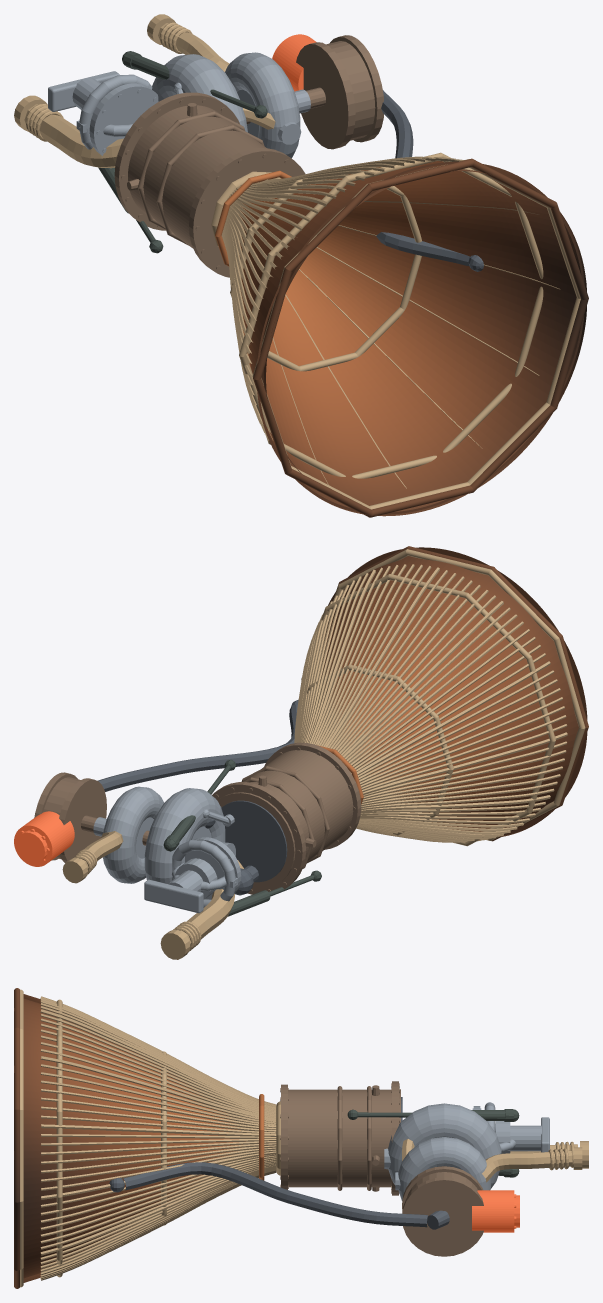
Rendered from rocket_engine.glb.
The picture shows the model from 3 angles, top to bottom: view 1: azimuth 30°, elevation 25°; view 2: azimuth 150°, elevation 25°; view 3: azimuth 270°, elevation 25°; orthographic projection. The views are drawn at different scales.
Visible parts, largest first — view 1: nozzle, cooling_tubes, combustion_chamber, turbine, gimbal, fuel_pump, ox_feed, ox_pump, turbine_exhaust, fuel_feed, actuators, gas_generator; view 2: cooling_tubes, nozzle, combustion_chamber, gimbal, ox_pump, fuel_pump, turbine, injector, turbine_exhaust, gas_generator, ox_feed, actuators (+1 smaller); view 3: cooling_tubes, nozzle, combustion_chamber, turbine, turbine_exhaust, ox_pump, fuel_pump, fuel_feed, gas_generator, gimbal, actuators, ox_feed.
Boxes of the visible parts, x1,y1,x2,y2 form: nozzle: (215, 158, 588, 517); cooling_tubes: (211, 152, 580, 509); combustion_chamber: (114, 92, 305, 277); turbine: (246, 35, 383, 149); gimbal: (48, 71, 158, 155); fuel_pump: (225, 52, 310, 158); ox_feed: (14, 95, 123, 168); ox_pump: (152, 54, 247, 132); turbine_exhaust: (376, 90, 483, 271); fuel_feed: (147, 14, 275, 129); actuators: (98, 51, 267, 253); gas_generator: (272, 34, 316, 91); cooling_tubes: (294, 549, 585, 846); nozzle: (317, 546, 588, 841); combustion_chamber: (212, 742, 361, 894); gimbal: (144, 837, 241, 913); ox_pump: (144, 788, 235, 883); fuel_pump: (93, 786, 163, 883); turbine: (34, 772, 149, 862); injector: (221, 800, 287, 882); turbine_exhaust: (97, 699, 298, 791); gas_generator: (14, 811, 74, 866); ox_feed: (160, 860, 243, 959); actuators: (163, 759, 321, 916); cooling_tubes: (20, 989, 280, 1287); nozzle: (14, 988, 264, 1288); combustion_chamber: (280, 1081, 400, 1195); turbine: (402, 1166, 483, 1256); turbine_exhaust: (109, 1162, 449, 1229); ox_pump: (384, 1103, 501, 1189); fuel_pump: (395, 1137, 490, 1200); fuel_feed: (402, 1139, 582, 1182); gas_generator: (472, 1190, 519, 1232); gimbal: (472, 1102, 549, 1153); actuators: (347, 1109, 519, 1177); ox_feed: (510, 1141, 588, 1168).
Bounding box in the file's own units: 2.18 × 1.82 × 3.53.
